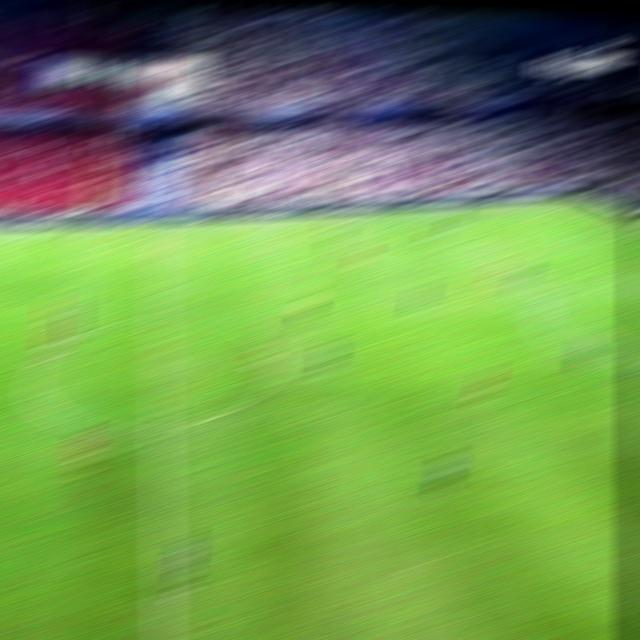bigarea_top_inner: (483, 240, 509, 252)
bigarea_top_outter: (627, 231, 640, 240)
bottom_arc_area_intersection: (625, 360, 640, 374)
corner: (563, 197, 591, 206)
halfcircle_bottom: (142, 415, 176, 440)
halfcircle_top: (142, 305, 177, 326)
midline_top_intersection: (142, 224, 175, 235)
top_arc_area_intersection: (539, 288, 563, 300)
